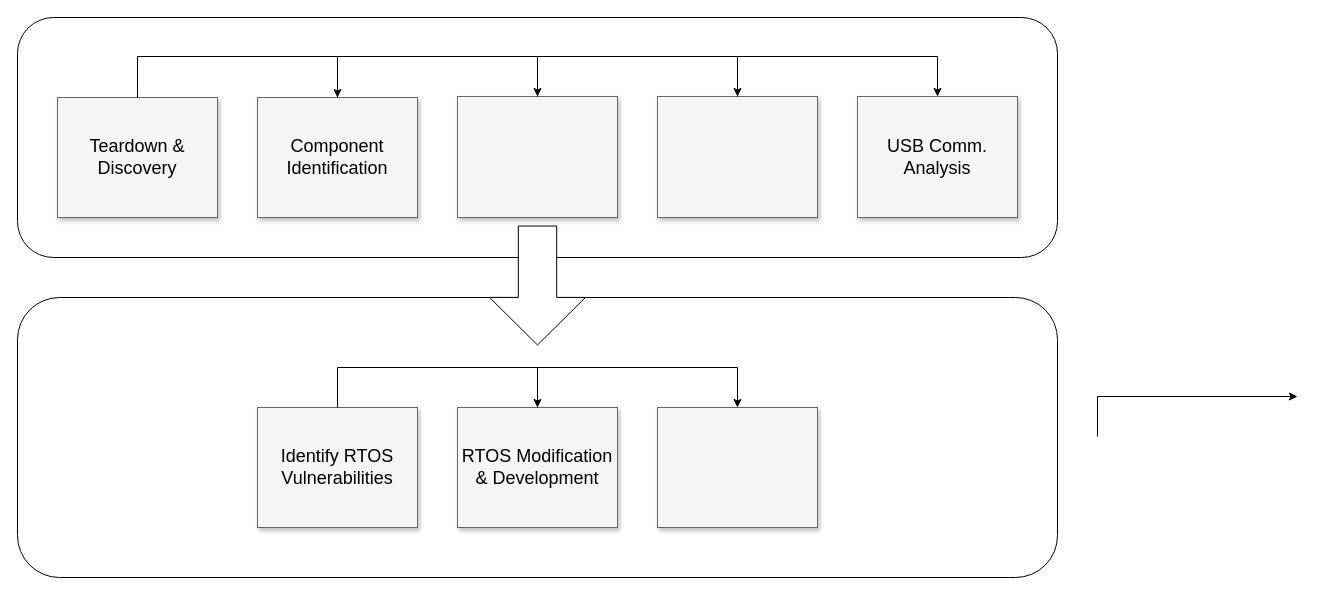
Some shapes in this 1323 by 595 pixel diagram are drawn without their labels. The shapes that lost their labels are listed below. From the top down, each one's centre as x and y in pixels, then its label:
the point at 538,158: Firmware Recovery and Analysis
the point at 738,158: Network Traffic Analysis
the point at 738,468: RTOS Reimaging & Testing
